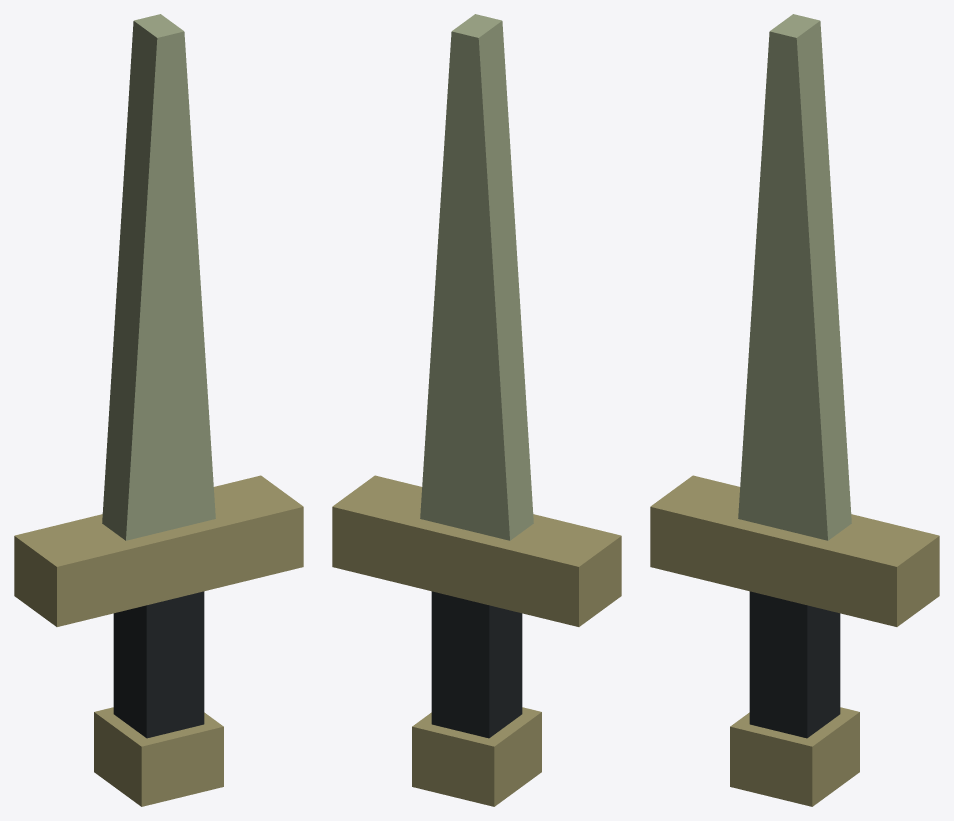
File: sword.glb
3 renders of one model, left to right at view 1: azimuth 30°, elevation 25°; view 2: azimuth 150°, elevation 25°; view 3: azimuth 330°, elevation 25°, orthographic.
Visible parts, largest first — view 1: Blade, Guard, Grip, Pommel; view 2: Blade, Guard, Grip, Pommel; view 3: Blade, Guard, Grip, Pommel.
Part boxes in pixels (x1=…): Blade: x1=102, y1=14, x2=215, y2=540; Guard: x1=14, y1=475, x2=303, y2=626; Grip: x1=113, y1=591, x2=204, y2=738; Pommel: x1=94, y1=707, x2=223, y2=806; Blade: x1=420, y1=14, x2=533, y2=540; Guard: x1=332, y1=475, x2=621, y2=626; Grip: x1=431, y1=591, x2=522, y2=738; Pommel: x1=412, y1=707, x2=541, y2=806; Blade: x1=738, y1=14, x2=851, y2=540; Guard: x1=650, y1=475, x2=939, y2=626; Grip: x1=749, y1=591, x2=840, y2=738; Pommel: x1=730, y1=707, x2=859, y2=806.
Size of the model in its own units: 0.3 by 0.875 by 0.1.
